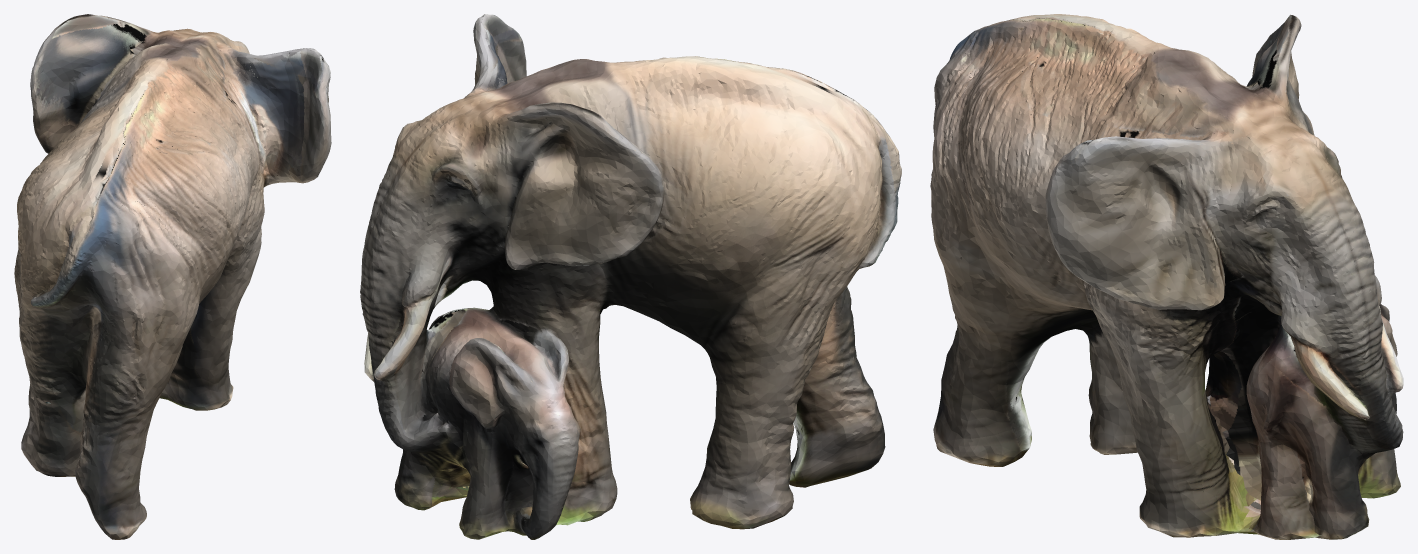
File: textured_ours.glb
3 renders of one model, left to right at view 1: azimuth 30°, elevation 25°; view 2: azimuth 150°, elevation 25°; view 3: azimuth 270°, elevation 25°, orthographic. The views are drawn at different scales.
Visible parts, largest first — view 1: Node; view 2: Node; view 3: Node.
Part boxes in pixels (x1=…): Node: x1=14, y1=14, x2=331, y2=539; Node: x1=360, y1=14, x2=901, y2=539; Node: x1=930, y1=14, x2=1403, y2=539.
Bounding box in the file's own units: 1.67 × 2 × 1.74.
1 material, 1 textured.
